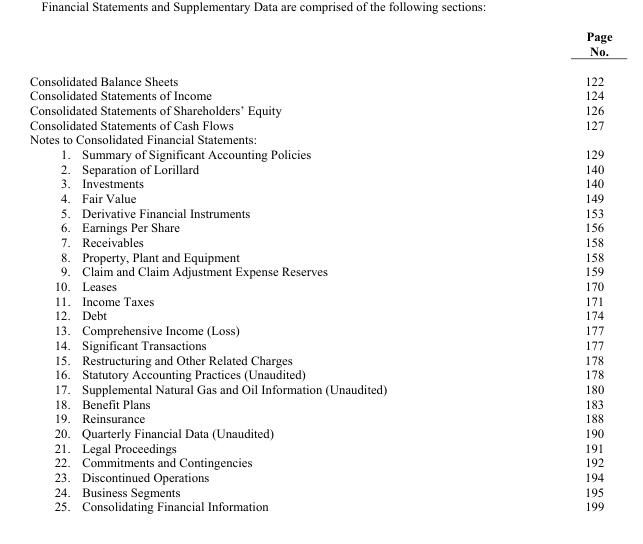table: (28, 28, 611, 513)
table column: (75, 28, 485, 513), (485, 28, 611, 513), (28, 28, 75, 513)
table column header: (28, 28, 611, 131)
table projected row header: (28, 131, 611, 146)
table row: (28, 28, 611, 131), (28, 131, 611, 146), (28, 146, 611, 161), (28, 175, 611, 190), (28, 190, 611, 205), (28, 219, 611, 234), (28, 234, 611, 249), (28, 263, 611, 278), (28, 278, 611, 293), (28, 307, 611, 322), (28, 322, 611, 337), (28, 351, 611, 366), (28, 366, 611, 381), (28, 395, 611, 410), (28, 410, 611, 425), (28, 425, 611, 440), (28, 454, 611, 469), (28, 469, 611, 484), (28, 498, 611, 513), (28, 161, 611, 175), (28, 205, 611, 219), (28, 249, 611, 263), (28, 293, 611, 307), (28, 337, 611, 351), (28, 381, 611, 395), (28, 440, 611, 454), (28, 484, 611, 498)
table spanning cell: (28, 28, 485, 131)
